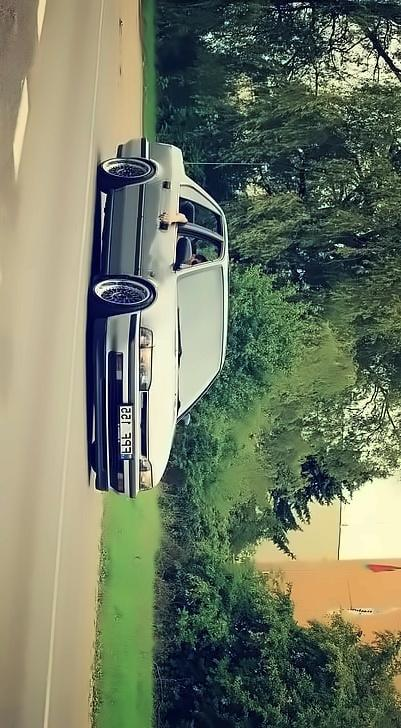Car hood: (140, 278, 183, 491)
Driver-s door - -F-R-: (104, 218, 226, 270)
Fender - -F-R-: (107, 270, 181, 316)
Fender - -R-R-: (117, 149, 189, 188)
Front bumper: (85, 309, 139, 501)
Headlight - -L-: (132, 451, 157, 495)
Headlight - -R-: (136, 324, 157, 394)
Passenger-s door - -R-R-: (108, 178, 224, 217)
Rear bumper: (112, 135, 154, 170)
Side bumper - -R-: (92, 180, 120, 283), (168, 233, 196, 273)
